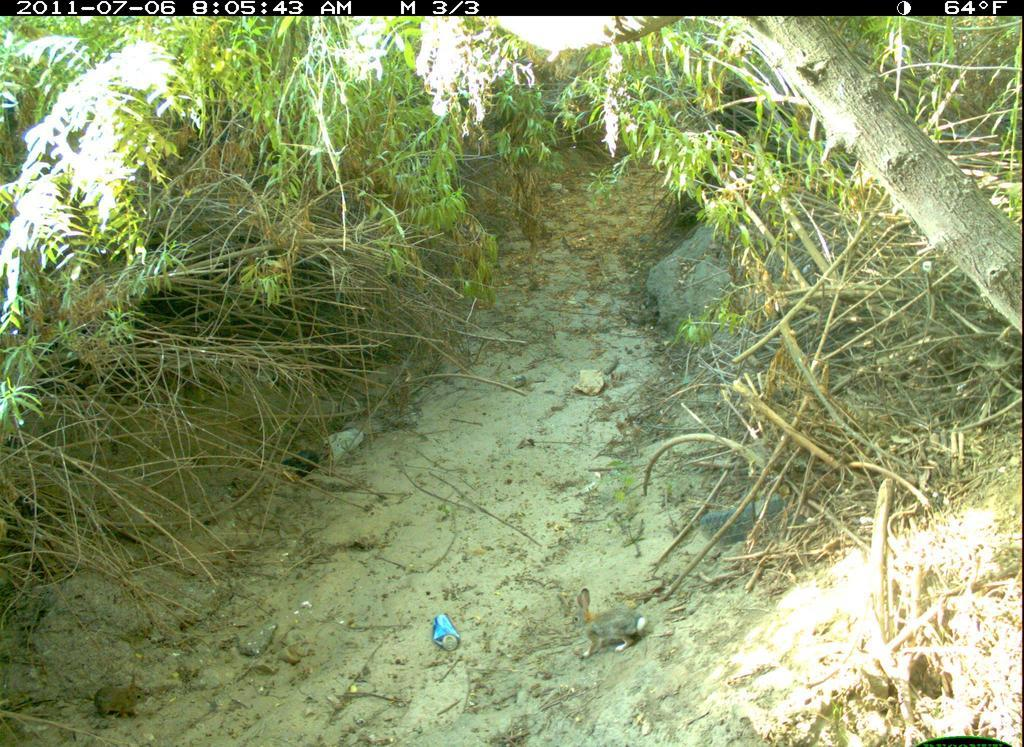rabbit: (565, 585, 656, 661)
